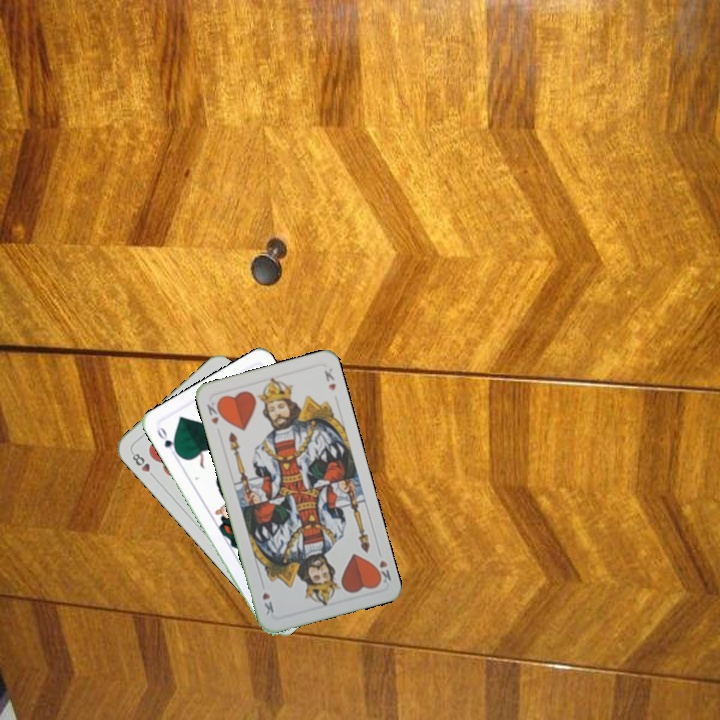GO: (153, 422, 182, 460)
H8: (127, 448, 158, 481)
HK: (370, 546, 394, 586), (203, 397, 225, 427)
